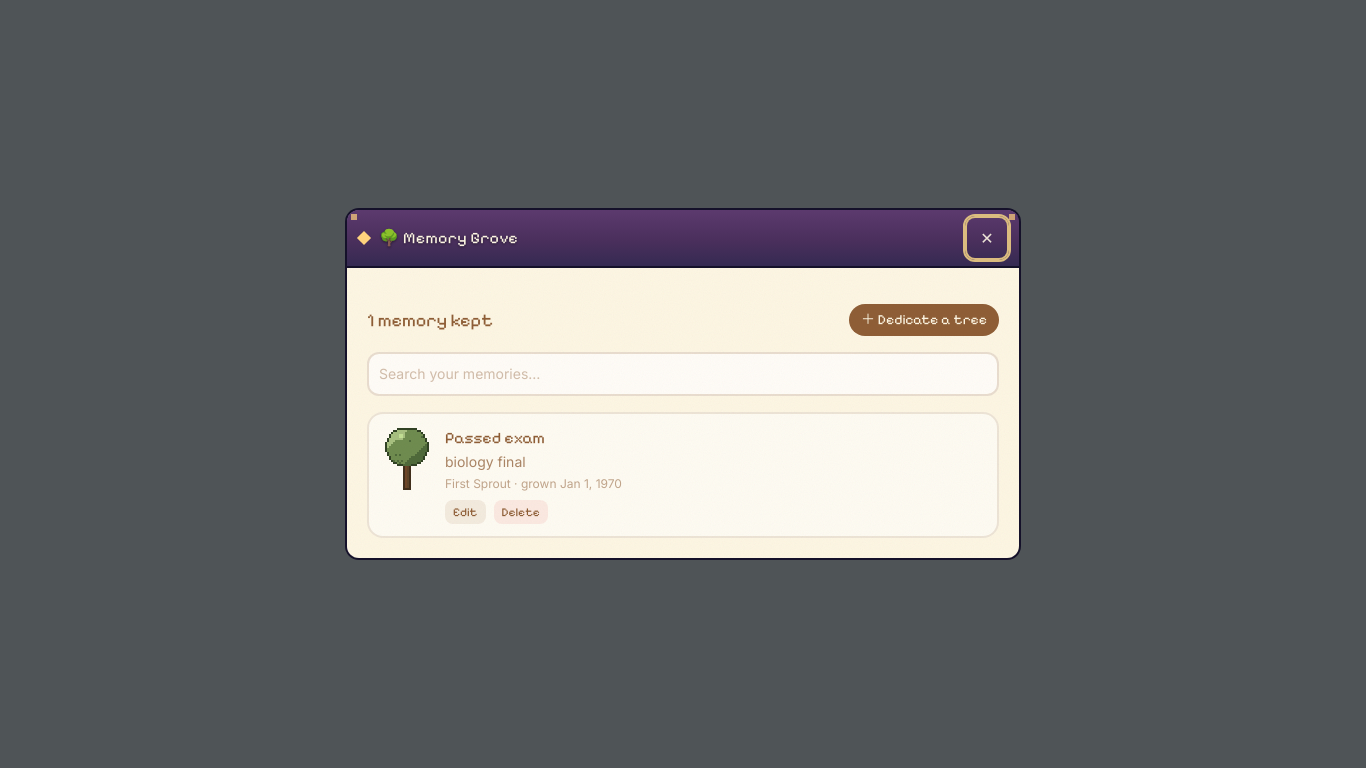
Test: MemoryGroveModal › dedicates an undedicated tree through the pick → form flow
Click the button "＋ Dedicate a tree": click(924, 320) [849,304,999,336]
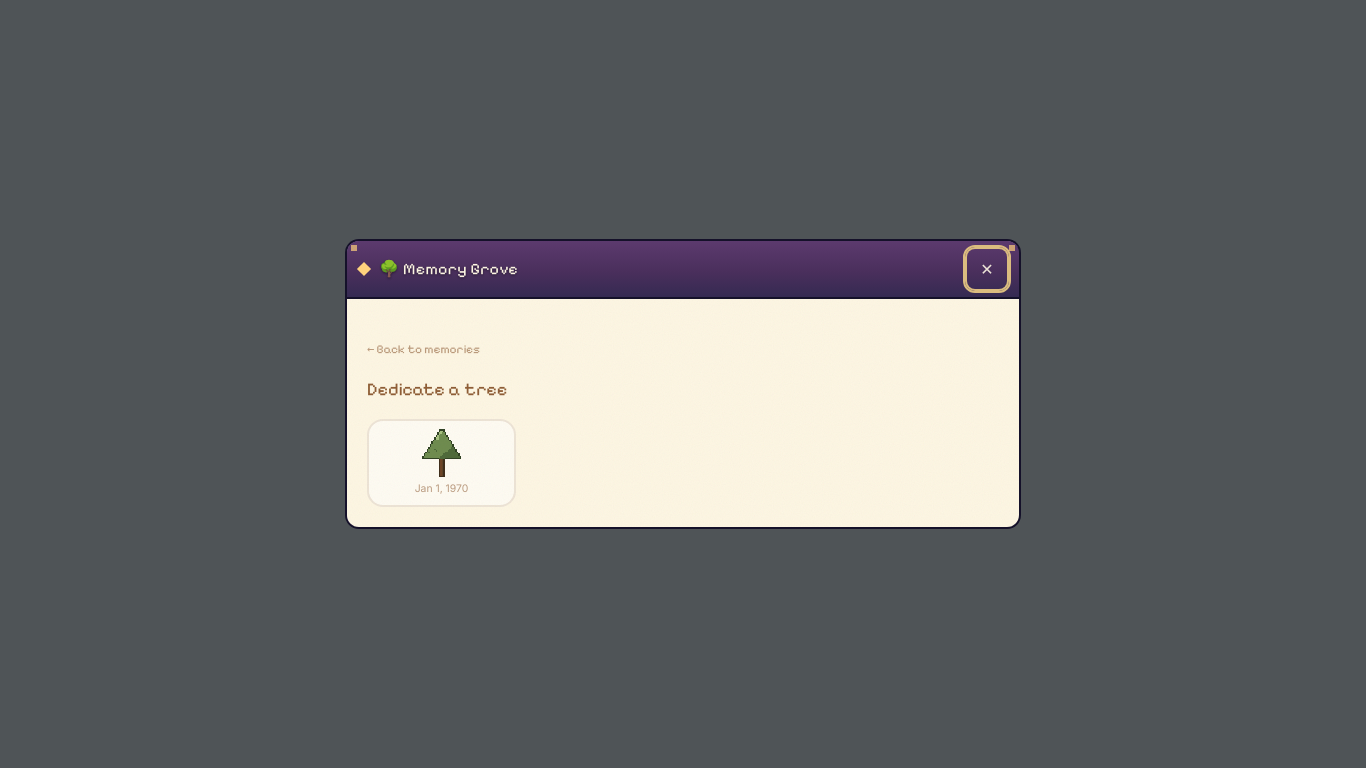
Click the button with aria-label "dedicate the quiet pine": click(442, 463) [367,419,516,507]
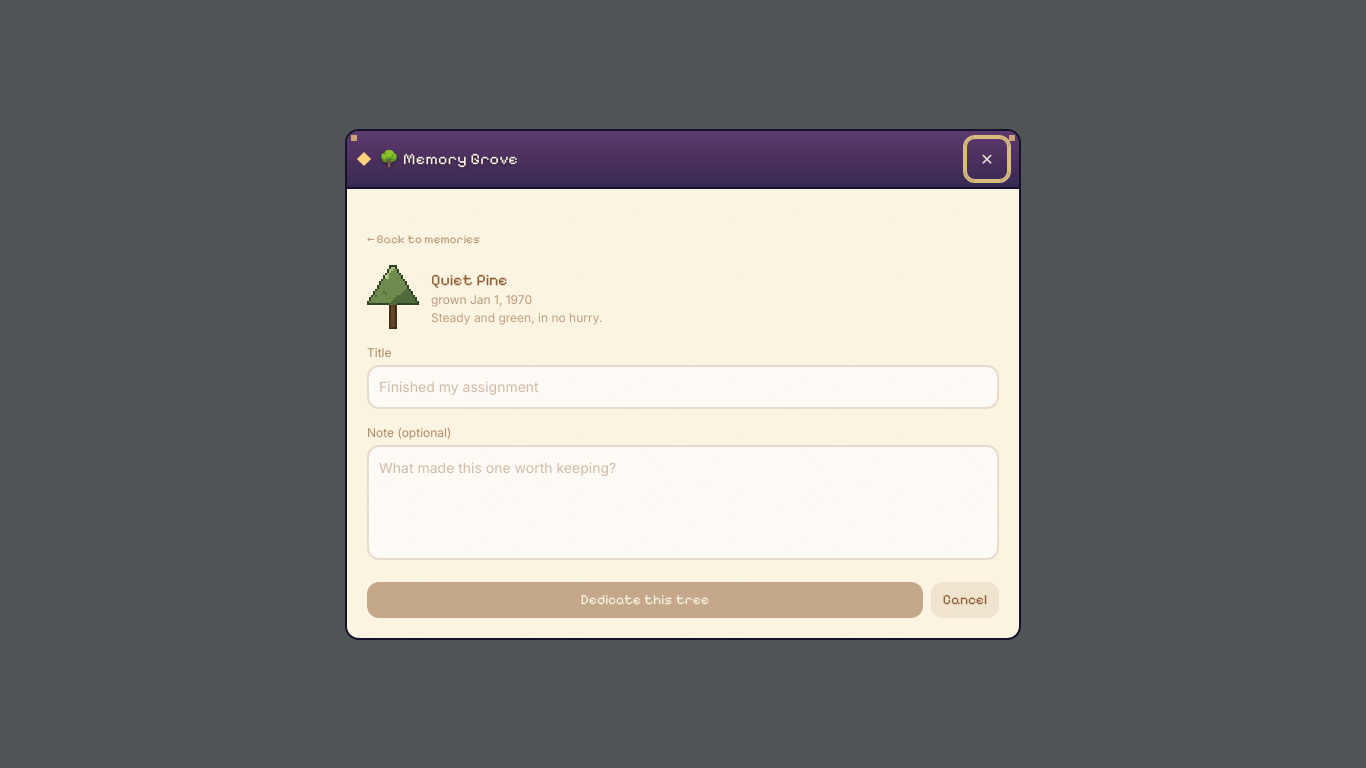
In the field labelled "Title": (683, 386) [367,364,999,408], type "Finished the project"
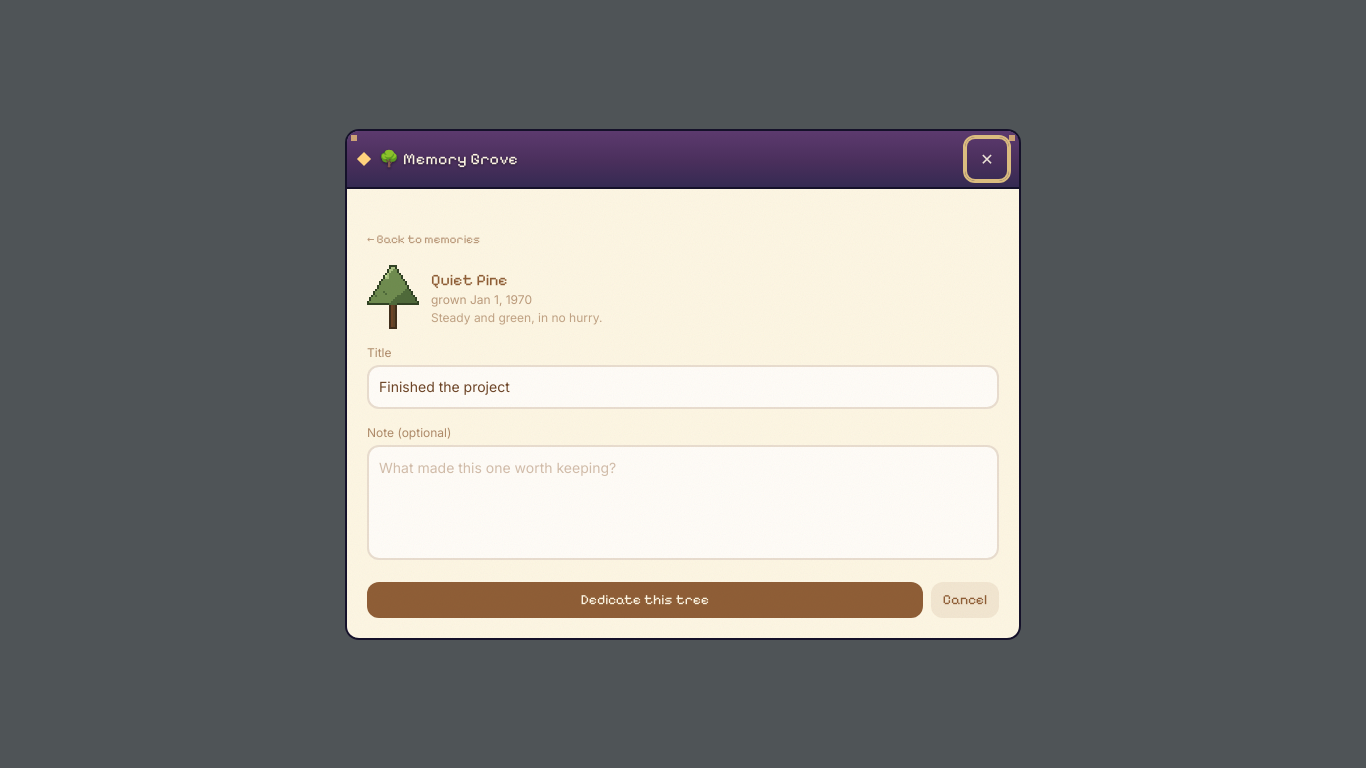
Click the button "Dedicate this tree": click(645, 600) [367,582,923,618]
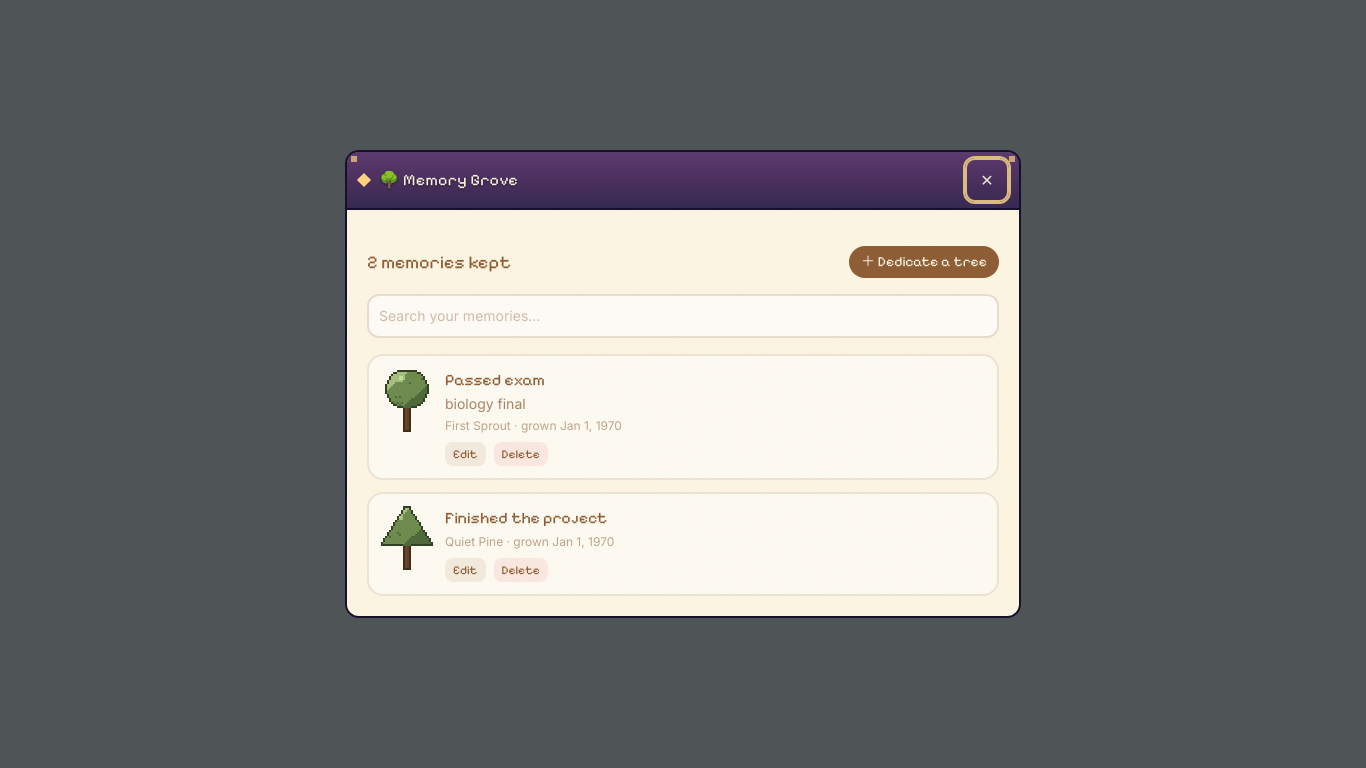
Result: the text "Finished the project" is shown at [445,508,607,527]
Result: the text "2 memories kept" is shown at [367,248,511,276]
